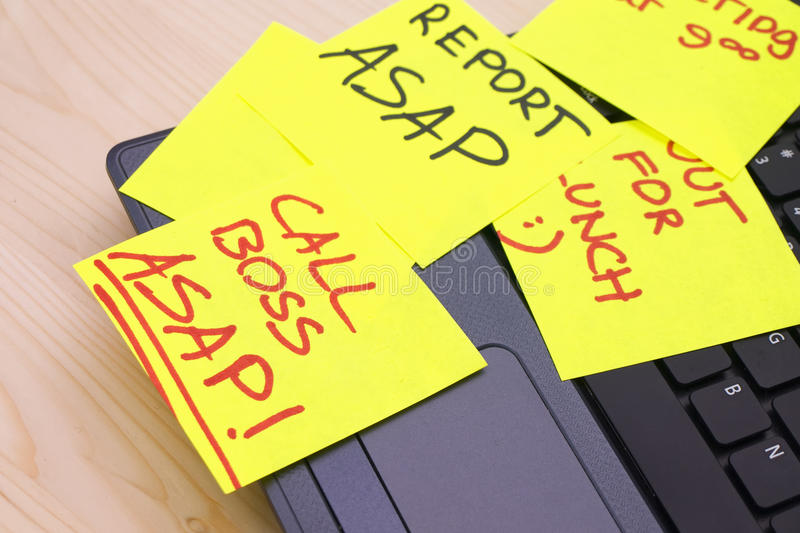Note: (75, 171, 484, 486), (259, 9, 594, 262), (487, 114, 799, 377), (510, 1, 800, 177)
